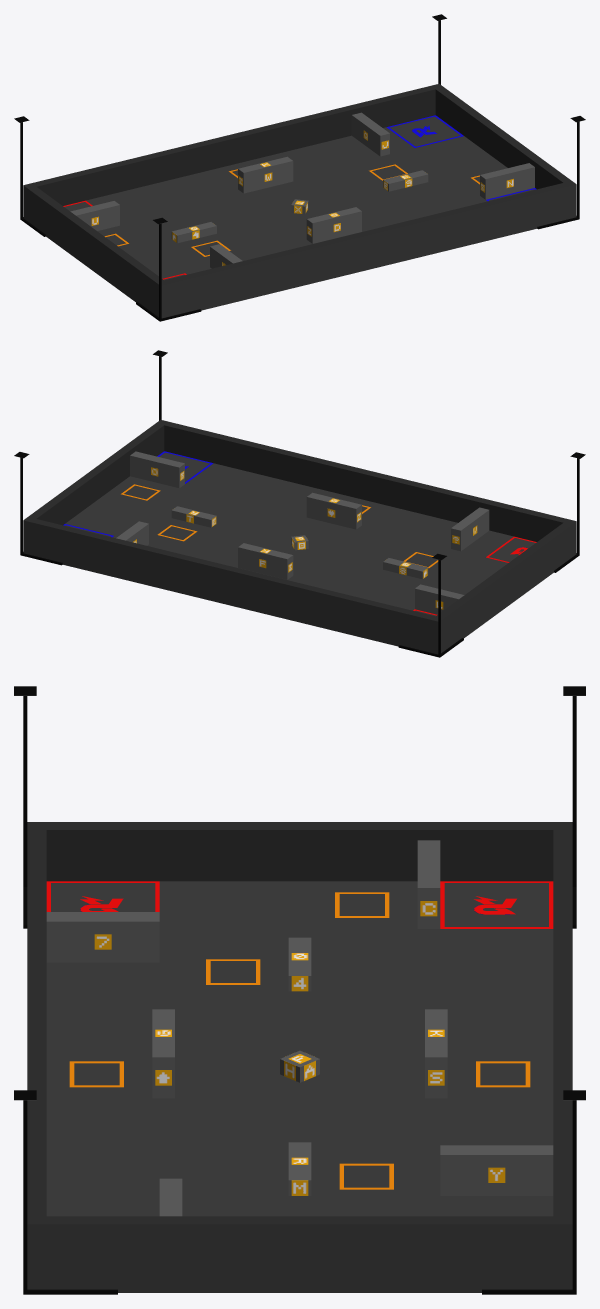
Rendered from CompetitionArea.fbx.
The picture shows the model from 3 angles, top to bottom: view 1: azimuth 30°, elevation 25°; view 2: azimuth 150°, elevation 25°; view 3: azimuth 270°, elevation 25°; orthographic projection. The views are drawn at different scales.
Visible parts, largest first — view 1: CirPattern2; view 2: CirPattern2; view 3: CirPattern2.
Part boxes in pixels (box(x1,y1,x2,y2)): CirPattern2: box(14, 14, 585, 321); CirPattern2: box(14, 350, 585, 657); CirPattern2: box(14, 686, 585, 1294).
Bounding box in the file's own units: 341 × 76.3 × 199.
Materials: 44 (37 with a texture image).
